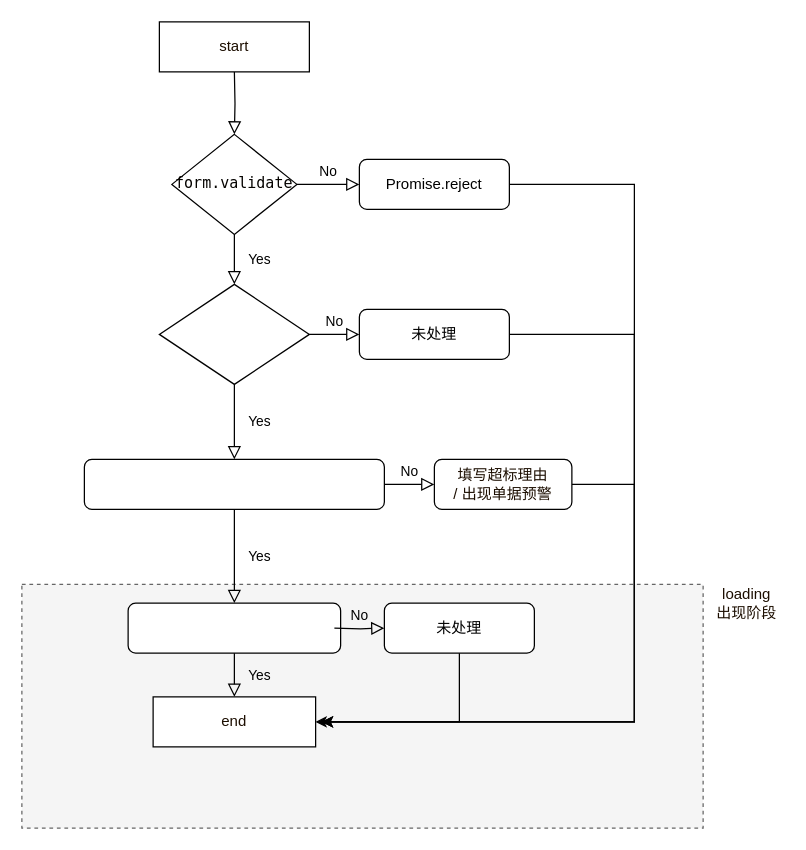
This 806x850 diagram has some shape labels left out. Here are the shapes that lost their labels. From the top down, the centre of each, then its label:
At point (233, 333): "createReceipt /updateReceipt".
At point (233, 483): "standardAfterSubmitReceipt(超标)".
At point (234, 627): "dispatch( ApprovalHandle) 审批流回调".
